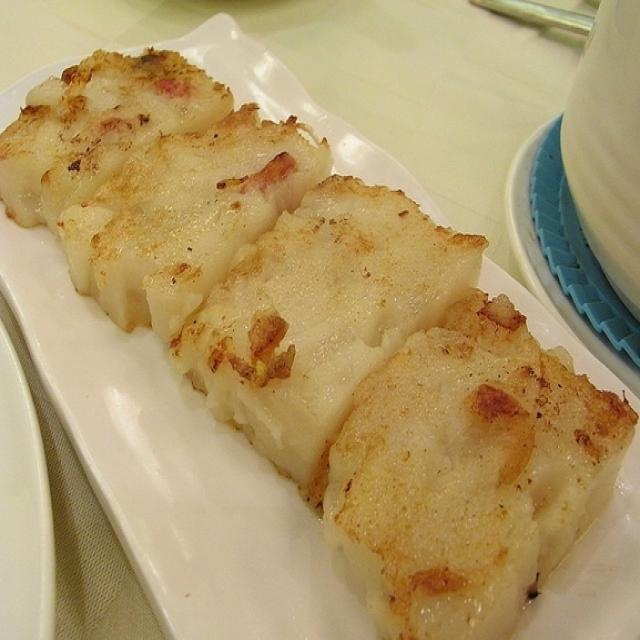蛋糕甜品: (13, 28, 636, 608)
